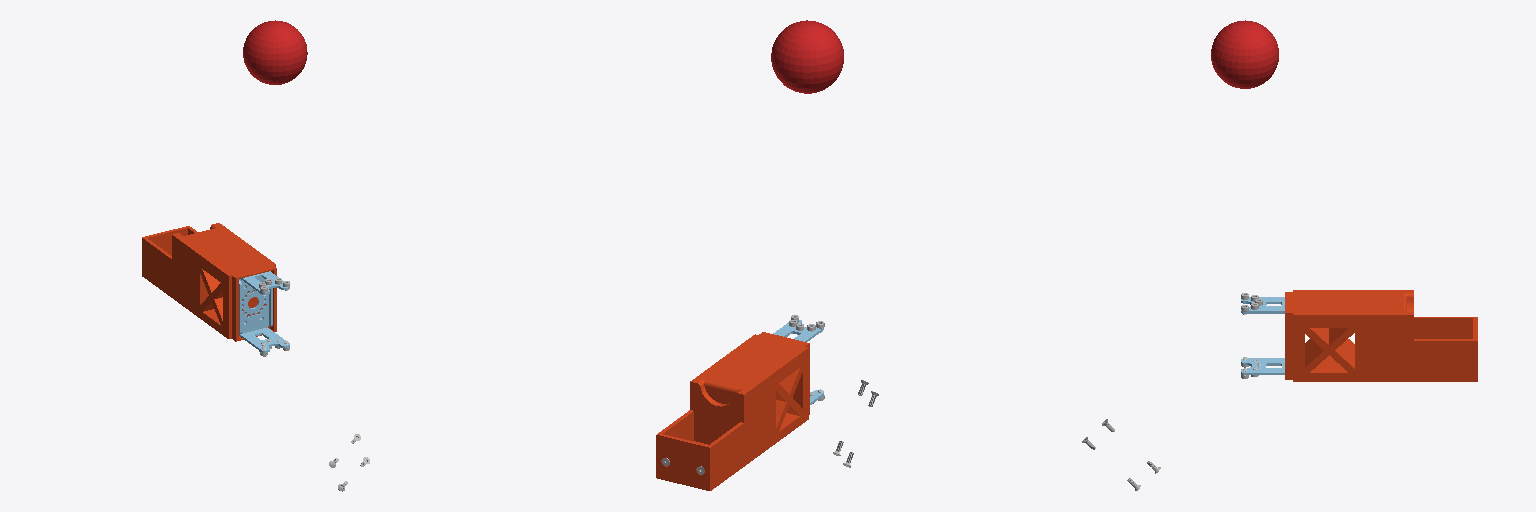
robot.urdf — gello:
<?xml version="1.0" ?>
<!-- Generated using onshape-to-robot -->
<robot name="gello">
  <!-- Fixed base link representing the mounting point -->
  <link name="base_link">
    <inertial>
      <origin xyz="0 0 0" rpy="0 0 0"/>
      <mass value="0.001"/>  <!-- Tiny nominal mass -->
      <inertia ixx="1e-6" ixy="0" ixz="0" iyy="1e-6" iyz="0" izz="1e-6"/>
    </inertial>
  </link>

  <!-- Connect base to assembly_2 -->
  <joint name="base_to_assembly_2" type="fixed">
    <parent link="base_link"/>
    <child link="assembly_2"/>
    <origin xyz="0 0 0" rpy="0 0 0"/>
  </joint>
  <!-- Link assembly_2 -->
  <link name="assembly_2">
    <inertial>
      <origin xyz="0.0208767 -0.0599286 -0.0488368" rpy="0 0 0"/>
      <mass value="0.262536"/>
      <inertia ixx="0.000294275" ixy="7.08962e-05" ixz="2.18138e-05" iyy="0.000236163" iyz="-3.42007e-05" izz="0.000358897"/>
    </inertial>
    <!-- Part 92125a086_18_8_stainless_steel_hex_drive_flat_head_screw_m2_5_x_0_45_mm_thread__8_mm_long -->
    <visual>
      <origin xyz="0.01125 -0.053821 -0.0594706" rpy="-3.14159 -0.785398 1.5708"/>
      <geometry>
        <mesh filename="package://gello_description/assets/92125a086_18_8_stainless_steel_hex_drive_flat_head_screw_m2_5_x_0_45_mm_thread__8_mm_long.stl"/>
      </geometry>
      <material name="92125a086_18_8_stainless_steel_hex_drive_flat_head_screw_m2_5_x_0_45_mm_thread__8_mm_long_material">
        <color rgba="0.752941 0.752941 0.752941 1"/>
      </material>
    </visual>
    <collision>
      <origin xyz="0.01125 -0.053821 -0.0594706" rpy="-3.14159 -0.785398 1.5708"/>
      <geometry>
        <mesh filename="package://gello_description/assets/92125a086_18_8_stainless_steel_hex_drive_flat_head_screw_m2_5_x_0_45_mm_thread__8_mm_long.stl"/>
      </geometry>
    </collision>
    <!-- Part part_4 -->
    <visual>
      <origin xyz="4.70168e-16 0.2 9.04793e-19" rpy="-3.14159 1.57772e-30 7.82058e-31"/>
      <geometry>
        <mesh filename="package://gello_description/assets/part_4.stl"/>
      </geometry>
      <material name="part_4_material">
        <color rgba="0.866667 0.321569 0.156863 1"/>
      </material>
    </visual>
    <collision>
      <origin xyz="4.70168e-16 0.2 9.04793e-19" rpy="-3.14159 1.57772e-30 7.82058e-31"/>
      <geometry>
        <mesh filename="package://gello_description/assets/part_4.stl"/>
      </geometry>
    </collision>
    <!-- Part 92125a086_18_8_stainless_steel_hex_drive_flat_head_screw_m2_5_x_0_45_mm_thread__8_mm_long_2 -->
    <visual>
      <origin xyz="0.01125 -0.0904668 -0.0454522" rpy="2.64711e-16 -0.785398 1.5708"/>
      <geometry>
        <mesh filename="package://gello_description/assets/92125a086_18_8_stainless_steel_hex_drive_flat_head_screw_m2_5_x_0_45_mm_thread__8_mm_long.stl"/>
      </geometry>
      <material name="92125a086_18_8_stainless_steel_hex_drive_flat_head_screw_m2_5_x_0_45_mm_thread__8_mm_long_2_material">
        <color rgba="0.752941 0.752941 0.752941 1"/>
      </material>
    </visual>
    <collision>
      <origin xyz="0.01125 -0.0904668 -0.0454522" rpy="2.64711e-16 -0.785398 1.5708"/>
      <geometry>
        <mesh filename="package://gello_description/assets/92125a086_18_8_stainless_steel_hex_drive_flat_head_screw_m2_5_x_0_45_mm_thread__8_mm_long.stl"/>
      </geometry>
    </collision>
    <!-- Part 92125a086_18_8_stainless_steel_hex_drive_flat_head_screw_m2_5_x_0_45_mm_thread__8_mm_long_3 -->
    <visual>
      <origin xyz="0.01125 -0.0791531 -0.0341385" rpy="2.64711e-16 -0.785398 1.5708"/>
      <geometry>
        <mesh filename="package://gello_description/assets/92125a086_18_8_stainless_steel_hex_drive_flat_head_screw_m2_5_x_0_45_mm_thread__8_mm_long.stl"/>
      </geometry>
      <material name="92125a086_18_8_stainless_steel_hex_drive_flat_head_screw_m2_5_x_0_45_mm_thread__8_mm_long_3_material">
        <color rgba="0.752941 0.752941 0.752941 1"/>
      </material>
    </visual>
    <collision>
      <origin xyz="0.01125 -0.0791531 -0.0341385" rpy="2.64711e-16 -0.785398 1.5708"/>
      <geometry>
        <mesh filename="package://gello_description/assets/92125a086_18_8_stainless_steel_hex_drive_flat_head_screw_m2_5_x_0_45_mm_thread__8_mm_long.stl"/>
      </geometry>
    </collision>
    <!-- Part dc13_x540_dummy -->
    <visual>
      <origin xyz="0.04925 -0.0723207 -0.0522846" rpy="3.14159 0.785398 1.5708"/>
      <geometry>
        <mesh filename="package://gello_description/assets/dc13_x540_dummy.stl"/>
      </geometry>
      <material name="dc13_x540_dummy_material">
        <color rgba="0.647059 0.647059 0.647059 1"/>
      </material>
    </visual>
    <collision>
      <origin xyz="0.04925 -0.0723207 -0.0522846" rpy="3.14159 0.785398 1.5708"/>
      <geometry>
        <mesh filename="package://gello_description/assets/dc13_x540_dummy.stl"/>
      </geometry>
    </collision>
    <!-- Part 92125a086_18_8_stainless_steel_hex_drive_flat_head_screw_m2_5_x_0_45_mm_thread__8_mm_long_4 -->
    <visual>
      <origin xyz="0.01125 -0.0651347 -0.0707843" rpy="-3.14159 -0.785398 1.5708"/>
      <geometry>
        <mesh filename="package://gello_description/assets/92125a086_18_8_stainless_steel_hex_drive_flat_head_screw_m2_5_x_0_45_mm_thread__8_mm_long.stl"/>
      </geometry>
      <material name="92125a086_18_8_stainless_steel_hex_drive_flat_head_screw_m2_5_x_0_45_mm_thread__8_mm_long_4_material">
        <color rgba="0.752941 0.752941 0.752941 1"/>
      </material>
    </visual>
    <collision>
      <origin xyz="0.01125 -0.0651347 -0.0707843" rpy="-3.14159 -0.785398 1.5708"/>
      <geometry>
        <mesh filename="package://gello_description/assets/92125a086_18_8_stainless_steel_hex_drive_flat_head_screw_m2_5_x_0_45_mm_thread__8_mm_long.stl"/>
      </geometry>
    </collision>
  </link>
  <!-- Link link_5___motor___hinge -->
  <link name="link_5___motor___hinge">
    <inertial>
      <origin xyz="0.000136176 0.0888269 0.0234144" rpy="0 0 0"/>
      <mass value="0.123352"/>
      <inertia ixx="0.00021887" ixy="-4.85487e-07" ixz="-9.53622e-08" iyy="3.6768e-05" iyz="-1.51309e-05" izz="0.000200544"/>
    </inertial>
    <!-- Part 91294a020_black_oxide_alloy_steel_hex_drive_flat_head_screw_m2_5_x_0_45_mm_thread__12_mm_long_13 -->
    <visual>
      <origin xyz="-0.011 0.129743 0.008625" rpy="-1.5708 3.15547e-14 -1.38223e-14"/>
      <geometry>
        <mesh filename="package://gello_description/assets/91294a020_black_oxide_alloy_steel_hex_drive_flat_head_screw_m2_5_x_0_45_mm_thread__12_mm_long.stl"/>
      </geometry>
      <material name="91294a020_black_oxide_alloy_steel_hex_drive_flat_head_screw_m2_5_x_0_45_mm_thread__12_mm_long_13_material">
        <color rgba="0.752941 0.752941 0.752941 1"/>
      </material>
    </visual>
    <collision>
      <origin xyz="-0.011 0.129743 0.008625" rpy="-1.5708 3.15547e-14 -1.38223e-14"/>
      <geometry>
        <mesh filename="package://gello_description/assets/91294a020_black_oxide_alloy_steel_hex_drive_flat_head_screw_m2_5_x_0_45_mm_thread__12_mm_long.stl"/>
      </geometry>
    </collision>
    <!-- Part 94180a321_m2_5x0_45x3_4_heat_set_insert_5 -->
    <visual>
      <origin xyz="-0.006 0.029715 0.031" rpy="-1.5708 -2.46588e-14 3.14159"/>
      <geometry>
        <mesh filename="package://gello_description/assets/94180a321_m2_5x0_45x3_4_heat_set_insert.stl"/>
      </geometry>
      <material name="94180a321_m2_5x0_45x3_4_heat_set_insert_5_material">
        <color rgba="0.752941 0.752941 0.752941 1"/>
      </material>
    </visual>
    <collision>
      <origin xyz="-0.006 0.029715 0.031" rpy="-1.5708 -2.46588e-14 3.14159"/>
      <geometry>
        <mesh filename="package://gello_description/assets/94180a321_m2_5x0_45x3_4_heat_set_insert.stl"/>
      </geometry>
    </collision>
    <!-- Part part_2_5 -->
    <visual>
      <origin xyz="-3.88578e-16 0.0220056 0.0176851" rpy="-1.35821e-14 2.73054e-14 -3.14159"/>
      <geometry>
        <mesh filename="package://gello_description/assets/part_2__5.stl"/>
      </geometry>
      <material name="part_2_5_material">
        <color rgba="0.866667 0.321569 0.156863 1"/>
      </material>
    </visual>
    <collision>
      <origin xyz="-3.88578e-16 0.0220056 0.0176851" rpy="-1.35821e-14 2.73054e-14 -3.14159"/>
      <geometry>
        <mesh filename="package://gello_description/assets/part_2__5.stl"/>
      </geometry>
    </collision>
    <!-- Part 94180a321_m2_5x0_45x3_4_heat_set_insert_6 -->
    <visual>
      <origin xyz="0.006 0.029715 0.007" rpy="-1.5708 -2.82868e-14 3.14159"/>
      <geometry>
        <mesh filename="package://gello_description/assets/94180a321_m2_5x0_45x3_4_heat_set_insert.stl"/>
      </geometry>
      <material name="94180a321_m2_5x0_45x3_4_heat_set_insert_6_material">
        <color rgba="0.752941 0.752941 0.752941 1"/>
      </material>
    </visual>
    <collision>
      <origin xyz="0.006 0.029715 0.007" rpy="-1.5708 -2.82868e-14 3.14159"/>
      <geometry>
        <mesh filename="package://gello_description/assets/94180a321_m2_5x0_45x3_4_heat_set_insert.stl"/>
      </geometry>
    </collision>
    <!-- Part 94180a321_m2_5x0_45x3_4_heat_set_insert_7 -->
    <visual>
      <origin xyz="-0.006 0.029715 0.007" rpy="-1.5708 -2.90449e-14 3.14159"/>
      <geometry>
        <mesh filename="package://gello_description/assets/94180a321_m2_5x0_45x3_4_heat_set_insert.stl"/>
      </geometry>
      <material name="94180a321_m2_5x0_45x3_4_heat_set_insert_7_material">
        <color rgba="0.752941 0.752941 0.752941 1"/>
      </material>
    </visual>
    <collision>
      <origin xyz="-0.006 0.029715 0.007" rpy="-1.5708 -2.90449e-14 3.14159"/>
      <geometry>
        <mesh filename="package://gello_description/assets/94180a321_m2_5x0_45x3_4_heat_set_insert.stl"/>
      </geometry>
    </collision>
    <!-- Part 94180a321_m2_5x0_45x3_4_heat_set_insert_8 -->
    <visual>
      <origin xyz="0.006 0.029715 0.031" rpy="-1.5708 -2.83844e-14 3.14159"/>
      <geometry>
        <mesh filename="package://gello_description/assets/94180a321_m2_5x0_45x3_4_heat_set_insert.stl"/>
      </geometry>
      <material name="94180a321_m2_5x0_45x3_4_heat_set_insert_8_material">
        <color rgba="0.752941 0.752941 0.752941 1"/>
      </material>
    </visual>
    <collision>
      <origin xyz="0.006 0.029715 0.031" rpy="-1.5708 -2.83844e-14 3.14159"/>
      <geometry>
        <mesh filename="package://gello_description/assets/94180a321_m2_5x0_45x3_4_heat_set_insert.stl"/>
      </geometry>
    </collision>
    <!-- Part 91294a020_black_oxide_alloy_steel_hex_drive_flat_head_screw_m2_5_x_0_45_mm_thread__12_mm_long_14 -->
    <visual>
      <origin xyz="0.011 0.129743 0.008625" rpy="-1.5708 3.15547e-14 -1.38223e-14"/>
      <geometry>
        <mesh filename="package://gello_description/assets/91294a020_black_oxide_alloy_steel_hex_drive_flat_head_screw_m2_5_x_0_45_mm_thread__12_mm_long.stl"/>
      </geometry>
      <material name="91294a020_black_oxide_alloy_steel_hex_drive_flat_head_screw_m2_5_x_0_45_mm_thread__12_mm_long_14_material">
        <color rgba="0.752941 0.752941 0.752941 1"/>
      </material>
    </visual>
    <collision>
      <origin xyz="0.011 0.129743 0.008625" rpy="-1.5708 3.15547e-14 -1.38223e-14"/>
      <geometry>
        <mesh filename="package://gello_description/assets/91294a020_black_oxide_alloy_steel_hex_drive_flat_head_screw_m2_5_x_0_45_mm_thread__12_mm_long.stl"/>
      </geometry>
    </collision>
    <!-- Part dc11_a01_dummy_2 -->
    <visual>
      <origin xyz="0.00025 0.1161 0.040625" rpy="1.5708 1.76871e-14 -3.14159"/>
      <geometry>
        <mesh filename="package://gello_description/assets/dc11_a01_dummy.stl"/>
      </geometry>
      <material name="dc11_a01_dummy_2_material">
        <color rgba="0.498039 0.498039 0.498039 1"/>
      </material>
    </visual>
    <collision>
      <origin xyz="0.00025 0.1161 0.040625" rpy="1.5708 1.76871e-14 -3.14159"/>
      <geometry>
        <mesh filename="package://gello_description/assets/dc11_a01_dummy.stl"/>
      </geometry>
    </collision>
    <!-- Part 91290a051_alloy_steel_socket_head_screw_m2_5_x_0_45_mm_thread__3_mm_long_21 -->
    <visual>
      <origin xyz="-0.00565685 0.00565685 0.03925" rpy="-1.2483e-14 2.89001e-14 -3.14159"/>
      <geometry>
        <mesh filename="package://gello_description/assets/91290a051_alloy_steel_socket_head_screw_m2_5_x_0_45_mm_thread__3_mm_long.stl"/>
      </geometry>
      <material name="91290a051_alloy_steel_socket_head_screw_m2_5_x_0_45_mm_thread__3_mm_long_21_material">
        <color rgba="0.752941 0.752941 0.752941 1"/>
      </material>
    </visual>
    <collision>
      <origin xyz="-0.00565685 0.00565685 0.03925" rpy="-1.2483e-14 2.89001e-14 -3.14159"/>
      <geometry>
        <mesh filename="package://gello_description/assets/91290a051_alloy_steel_socket_head_screw_m2_5_x_0_45_mm_thread__3_mm_long.stl"/>
      </geometry>
    </collision>
    <!-- Part 91290a051_alloy_steel_socket_head_screw_m2_5_x_0_45_mm_thread__3_mm_long_22 -->
    <visual>
      <origin xyz="-7.21645e-16 0.008 -0.00125" rpy="3.14159 1.31324e-14 2.5208"/>
      <geometry>
        <mesh filename="package://gello_description/assets/91290a051_alloy_steel_socket_head_screw_m2_5_x_0_45_mm_thread__3_mm_long.stl"/>
      </geometry>
      <material name="91290a051_alloy_steel_socket_head_screw_m2_5_x_0_45_mm_thread__3_mm_long_22_material">
        <color rgba="0.752941 0.752941 0.752941 1"/>
      </material>
    </visual>
    <collision>
      <origin xyz="-7.21645e-16 0.008 -0.00125" rpy="3.14159 1.31324e-14 2.5208"/>
      <geometry>
        <mesh filename="package://gello_description/assets/91290a051_alloy_steel_socket_head_screw_m2_5_x_0_45_mm_thread__3_mm_long.stl"/>
      </geometry>
    </collision>
    <!-- Part fr12_h101_3 -->
    <visual>
      <origin xyz="6.93889e-18 0 0.019" rpy="5.51844e-30 -1.5708 0"/>
      <geometry>
        <mesh filename="package://gello_description/assets/fr12_h101.stl"/>
      </geometry>
      <material name="fr12_h101_3_material">
        <color rgba="0.615686 0.811765 0.929412 1"/>
      </material>
    </visual>
    <collision>
      <origin xyz="6.93889e-18 0 0.019" rpy="5.51844e-30 -1.5708 0"/>
      <geometry>
        <mesh filename="package://gello_description/assets/fr12_h101.stl"/>
      </geometry>
    </collision>
    <!-- Part 91290a051_alloy_steel_socket_head_screw_m2_5_x_0_45_mm_thread__3_mm_long_23 -->
    <visual>
      <origin xyz="0.00565685 0.00565685 0.03925" rpy="-1.2483e-14 2.89001e-14 -3.14159"/>
      <geometry>
        <mesh filename="package://gello_description/assets/91290a051_alloy_steel_socket_head_screw_m2_5_x_0_45_mm_thread__3_mm_long.stl"/>
      </geometry>
      <material name="91290a051_alloy_steel_socket_head_screw_m2_5_x_0_45_mm_thread__3_mm_long_23_material">
        <color rgba="0.752941 0.752941 0.752941 1"/>
      </material>
    </visual>
    <collision>
      <origin xyz="0.00565685 0.00565685 0.03925" rpy="-1.2483e-14 2.89001e-14 -3.14159"/>
      <geometry>
        <mesh filename="package://gello_description/assets/91290a051_alloy_steel_socket_head_screw_m2_5_x_0_45_mm_thread__3_mm_long.stl"/>
      </geometry>
    </collision>
    <!-- Part 91290a051_alloy_steel_socket_head_screw_m2_5_x_0_45_mm_thread__3_mm_long_24 -->
    <visual>
      <origin xyz="0.008 -2.27596e-15 -0.00125" rpy="3.14159 1.31324e-14 2.5208"/>
      <geometry>
        <mesh filename="package://gello_description/assets/91290a051_alloy_steel_socket_head_screw_m2_5_x_0_45_mm_thread__3_mm_long.stl"/>
      </geometry>
      <material name="91290a051_alloy_steel_socket_head_screw_m2_5_x_0_45_mm_thread__3_mm_long_24_material">
        <color rgba="0.752941 0.752941 0.752941 1"/>
      </material>
    </visual>
    <collision>
      <origin xyz="0.008 -2.27596e-15 -0.00125" rpy="3.14159 1.31324e-14 2.5208"/>
      <geometry>
        <mesh filename="package://gello_description/assets/91290a051_alloy_steel_socket_head_screw_m2_5_x_0_45_mm_thread__3_mm_long.stl"/>
      </geometry>
    </collision>
    <!-- Part 91290a051_alloy_steel_socket_head_screw_m2_5_x_0_45_mm_thread__3_mm_long_25 -->
    <visual>
      <origin xyz="0.00565685 0.00565685 -0.00125" rpy="-3.14159 -3.90488e-15 7.97626e-15"/>
      <geometry>
        <mesh filename="package://gello_description/assets/91290a051_alloy_steel_socket_head_screw_m2_5_x_0_45_mm_thread__3_mm_long.stl"/>
      </geometry>
      <material name="91290a051_alloy_steel_socket_head_screw_m2_5_x_0_45_mm_thread__3_mm_long_25_material">
        <color rgba="0.752941 0.752941 0.752941 1"/>
      </material>
    </visual>
    <collision>
      <origin xyz="0.00565685 0.00565685 -0.00125" rpy="-3.14159 -3.90488e-15 7.97626e-15"/>
      <geometry>
        <mesh filename="package://gello_description/assets/91290a051_alloy_steel_socket_head_screw_m2_5_x_0_45_mm_thread__3_mm_long.stl"/>
      </geometry>
    </collision>
    <!-- Part 91290a051_alloy_steel_socket_head_screw_m2_5_x_0_45_mm_thread__3_mm_long_26 -->
    <visual>
      <origin xyz="1.57166e-15 0.008 0.03925" rpy="-1.2483e-14 2.89001e-14 -3.14159"/>
      <geometry>
        <mesh filename="package://gello_description/assets/91290a051_alloy_steel_socket_head_screw_m2_5_x_0_45_mm_thread__3_mm_long.stl"/>
      </geometry>
      <material name="91290a051_alloy_steel_socket_head_screw_m2_5_x_0_45_mm_thread__3_mm_long_26_material">
        <color rgba="0.752941 0.752941 0.752941 1"/>
      </material>
    </visual>
    <collision>
      <origin xyz="1.57166e-15 0.008 0.03925" rpy="-1.2483e-14 2.89001e-14 -3.14159"/>
      <geometry>
        <mesh filename="package://gello_description/assets/91290a051_alloy_steel_socket_head_screw_m2_5_x_0_45_mm_thread__3_mm_long.stl"/>
      </geometry>
    </collision>
    <!-- Part 91290a051_alloy_steel_socket_head_screw_m2_5_x_0_45_mm_thread__3_mm_long_27 -->
    <visual>
      <origin xyz="0.008 -1.11022e-16 0.03925" rpy="-1.2483e-14 2.89001e-14 -3.14159"/>
      <geometry>
        <mesh filename="package://gello_description/assets/91290a051_alloy_steel_socket_head_screw_m2_5_x_0_45_mm_thread__3_mm_long.stl"/>
      </geometry>
      <material name="91290a051_alloy_steel_socket_head_screw_m2_5_x_0_45_mm_thread__3_mm_long_27_material">
        <color rgba="0.752941 0.752941 0.752941 1"/>
      </material>
    </visual>
    <collision>
      <origin xyz="0.008 -1.11022e-16 0.03925" rpy="-1.2483e-14 2.89001e-14 -3.14159"/>
      <geometry>
        <mesh filename="package://gello_description/assets/91290a051_alloy_steel_socket_head_screw_m2_5_x_0_45_mm_thread__3_mm_long.stl"/>
      </geometry>
    </collision>
    <!-- Part 91290a051_alloy_steel_socket_head_screw_m2_5_x_0_45_mm_thread__3_mm_long_28 -->
    <visual>
      <origin xyz="-0.008 -3.05311e-16 0.03925" rpy="-1.2483e-14 2.89001e-14 -3.14159"/>
      <geometry>
        <mesh filename="package://gello_description/assets/91290a051_alloy_steel_socket_head_screw_m2_5_x_0_45_mm_thread__3_mm_long.stl"/>
      </geometry>
      <material name="91290a051_alloy_steel_socket_head_screw_m2_5_x_0_45_mm_thread__3_mm_long_28_material">
        <color rgba="0.752941 0.752941 0.752941 1"/>
      </material>
    </visual>
    <collision>
      <origin xyz="-0.008 -3.05311e-16 0.03925" rpy="-1.2483e-14 2.89001e-14 -3.14159"/>
      <geometry>
        <mesh filename="package://gello_description/assets/91290a051_alloy_steel_socket_head_screw_m2_5_x_0_45_mm_thread__3_mm_long.stl"/>
      </geometry>
    </collision>
    <!-- Part 91290a051_alloy_steel_socket_head_screw_m2_5_x_0_45_mm_thread__3_mm_long_29 -->
    <visual>
      <origin xyz="-0.008 1.41553e-15 -0.00125" rpy="3.14159 1.31324e-14 2.5208"/>
      <geometry>
        <mesh filename="package://gello_description/assets/91290a051_alloy_steel_socket_head_screw_m2_5_x_0_45_mm_thread__3_mm_long.stl"/>
      </geometry>
      <material name="91290a051_alloy_steel_socket_head_screw_m2_5_x_0_45_mm_thread__3_mm_long_29_material">
        <color rgba="0.752941 0.752941 0.752941 1"/>
      </material>
    </visual>
    <collision>
      <origin xyz="-0.008 1.41553e-15 -0.00125" rpy="3.14159 1.31324e-14 2.5208"/>
      <geometry>
        <mesh filename="package://gello_description/assets/91290a051_alloy_steel_socket_head_screw_m2_5_x_0_45_mm_thread__3_mm_long.stl"/>
      </geometry>
    </collision>
    <!-- Part 91290a051_alloy_steel_socket_head_screw_m2_5_x_0_45_mm_thread__3_mm_long_30 -->
    <visual>
      <origin xyz="-0.00565685 0.00565685 -0.00125" rpy="3.14159 1.31324e-14 2.5208"/>
      <geometry>
        <mesh filename="package://gello_description/assets/91290a051_alloy_steel_socket_head_screw_m2_5_x_0_45_mm_thread__3_mm_long.stl"/>
      </geometry>
      <material name="91290a051_alloy_steel_socket_head_screw_m2_5_x_0_45_mm_thread__3_mm_long_30_material">
        <color rgba="0.752941 0.752941 0.752941 1"/>
      </material>
    </visual>
    <collision>
      <origin xyz="-0.00565685 0.00565685 -0.00125" rpy="3.14159 1.31324e-14 2.5208"/>
      <geometry>
        <mesh filename="package://gello_description/assets/91290a051_alloy_steel_socket_head_screw_m2_5_x_0_45_mm_thread__3_mm_long.stl"/>
      </geometry>
    </collision>
  </link>
   <!-- Dummy mass at the end of link_1___motor___hinge_assembly -->
  <link name="dummy_mass">
    <inertial>
      <origin xyz="0 0 0.1" rpy="0 0 0"/> <!-- adjust offset as needed -->
      <mass value="1.0"/> <!-- kg -->
      <inertia ixx="0.0005" ixy="0" ixz="0"
               iyy="0.0005" iyz="0"
               izz="0.0005"/>
    </inertial>
    <visual>
      <origin xyz="0 0 0.1" rpy="0 0 0"/>
      <geometry>
        <sphere radius="0.02"/> <!-- 2 cm radius -->
      </geometry>
      <material name="dummy_mass_material">
        <color rgba="0.8 0.2 0.2 1"/>
      </material>
    </visual>
    <collision>
      <origin xyz="0 0 0.1" rpy="0 0 0"/>
      <geometry>
        <sphere radius="0.02"/>
      </geometry>
    </collision>
  </link>
  <!-- Connect assembly_2 to motor hinge assembly -->
  <joint name="assembly_2_to_motor" type="fixed">
    <parent link="assembly_2"/>
    <child link="link_5___motor___hinge"/>
    <origin xyz="0 0 0" rpy="0 0 0"/>
  </joint>
  <joint name="motor_to_dummy_mass" type="revolute">
    <parent link="link_5___motor___hinge"/>
    <child link="dummy_mass"/>
    <origin xyz="0 0 0.1" rpy="0 0 0"/>
    <limit effort="10" velocity="10"/>
  </joint>
</robot>

--- Render facts (derived) ---
The picture shows the robot from 3 angles, left to right: view 1: azimuth 30°, elevation 25°; view 2: azimuth 150°, elevation 25°; view 3: azimuth 270°, elevation 25°; orthographic projection.
Robot: gello — 4 links, 3 joints (1 revolute, 2 fixed); root link base_link; default pose: all joints at 0.
Links seen in each view (by area): view 1: link_5___motor___hinge, dummy_mass; view 2: link_5___motor___hinge, dummy_mass; view 3: link_5___motor___hinge, dummy_mass.
Link boxes in pixels (<box>): link_5___motor___hinge: <box>142,223,289,356</box>; dummy_mass: <box>243,20,307,84</box>; link_5___motor___hinge: <box>656,315,824,490</box>; dummy_mass: <box>771,20,843,93</box>; link_5___motor___hinge: <box>1241,290,1477,381</box>; dummy_mass: <box>1211,20,1278,88</box>.
Bounding box of the posed robot: 0.04 × 0.2308 × 0.2954 m (x, y, z).
22 mesh visuals loaded from 9 distinct referenced files (6 binary STL); not drawn: 3 (reference not matched to a file when rendering).
